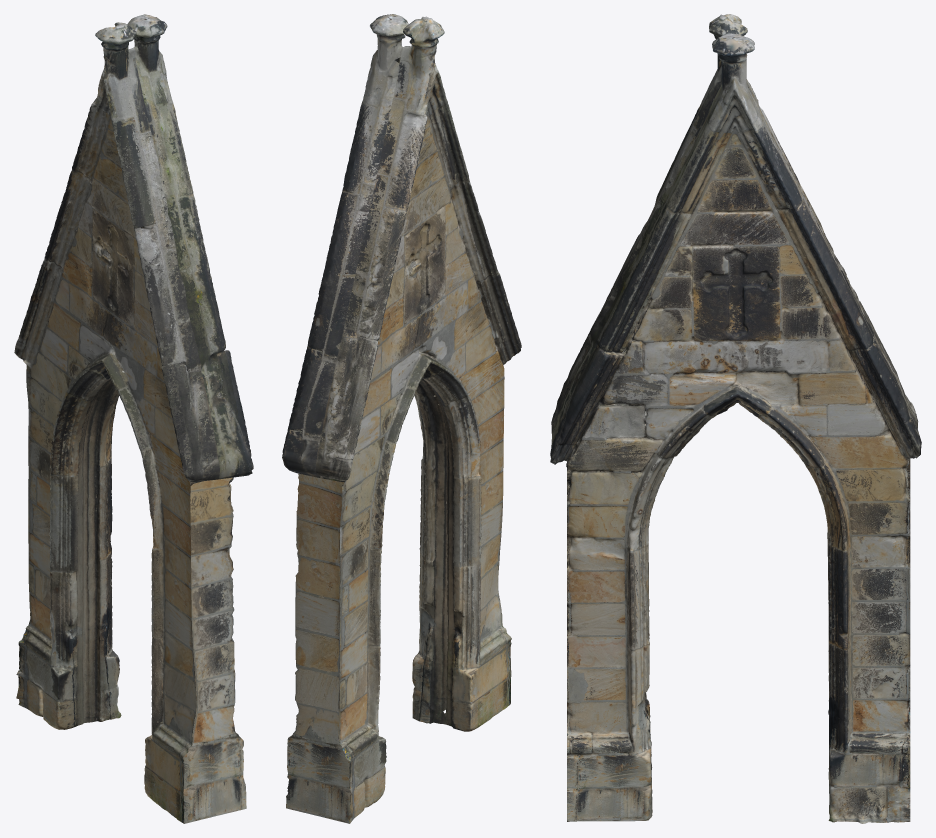
Rendered from sm_Chapel_01_02.fbx.
The picture shows the model from 3 angles, left to right: view 1: azimuth 30°, elevation 25°; view 2: azimuth 150°, elevation 25°; view 3: azimuth 270°, elevation 25°; orthographic projection. The views are drawn at different scales.
Parts seen in each view (by area): view 1: sm_Chapel_01_02_LOD0; view 2: sm_Chapel_01_02_LOD0; view 3: sm_Chapel_01_02_LOD0.
Boxes of the visible parts, x1,y1,x2,y2 form: sm_Chapel_01_02_LOD0: (14, 14, 253, 823); sm_Chapel_01_02_LOD0: (282, 14, 521, 823); sm_Chapel_01_02_LOD0: (550, 14, 921, 823).
Bounding box in the file's own units: 66.22 × 271 × 625.
